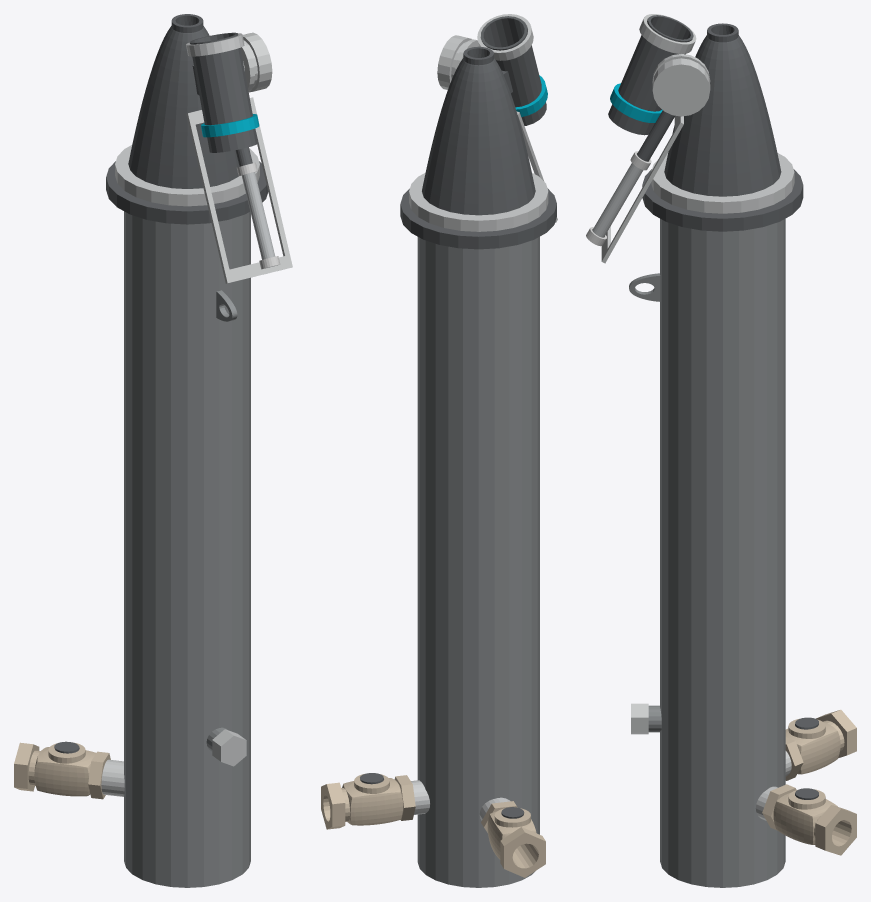
The model's file is Supershooter.glb.
The picture shows the model from 3 angles, left to right: view 1: azimuth 30°, elevation 25°; view 2: azimuth 150°, elevation 25°; view 3: azimuth 270°, elevation 25°; orthographic projection. The views are drawn at different scales.
Visible parts, largest first — view 1: Mesh_Mesh_head_geo.001_lambert2SG.001; view 2: Mesh_Mesh_head_geo.001_lambert2SG.001; view 3: Mesh_Mesh_head_geo.001_lambert2SG.001.
Boxes of the visible parts, <box> form: Mesh_Mesh_head_geo.001_lambert2SG.001: <box>14,14,292,887</box>; Mesh_Mesh_head_geo.001_lambert2SG.001: <box>321,14,557,887</box>; Mesh_Mesh_head_geo.001_lambert2SG.001: <box>586,14,856,887</box>.
Size of the model in its own units: 53.95 by 188 by 54.77.
